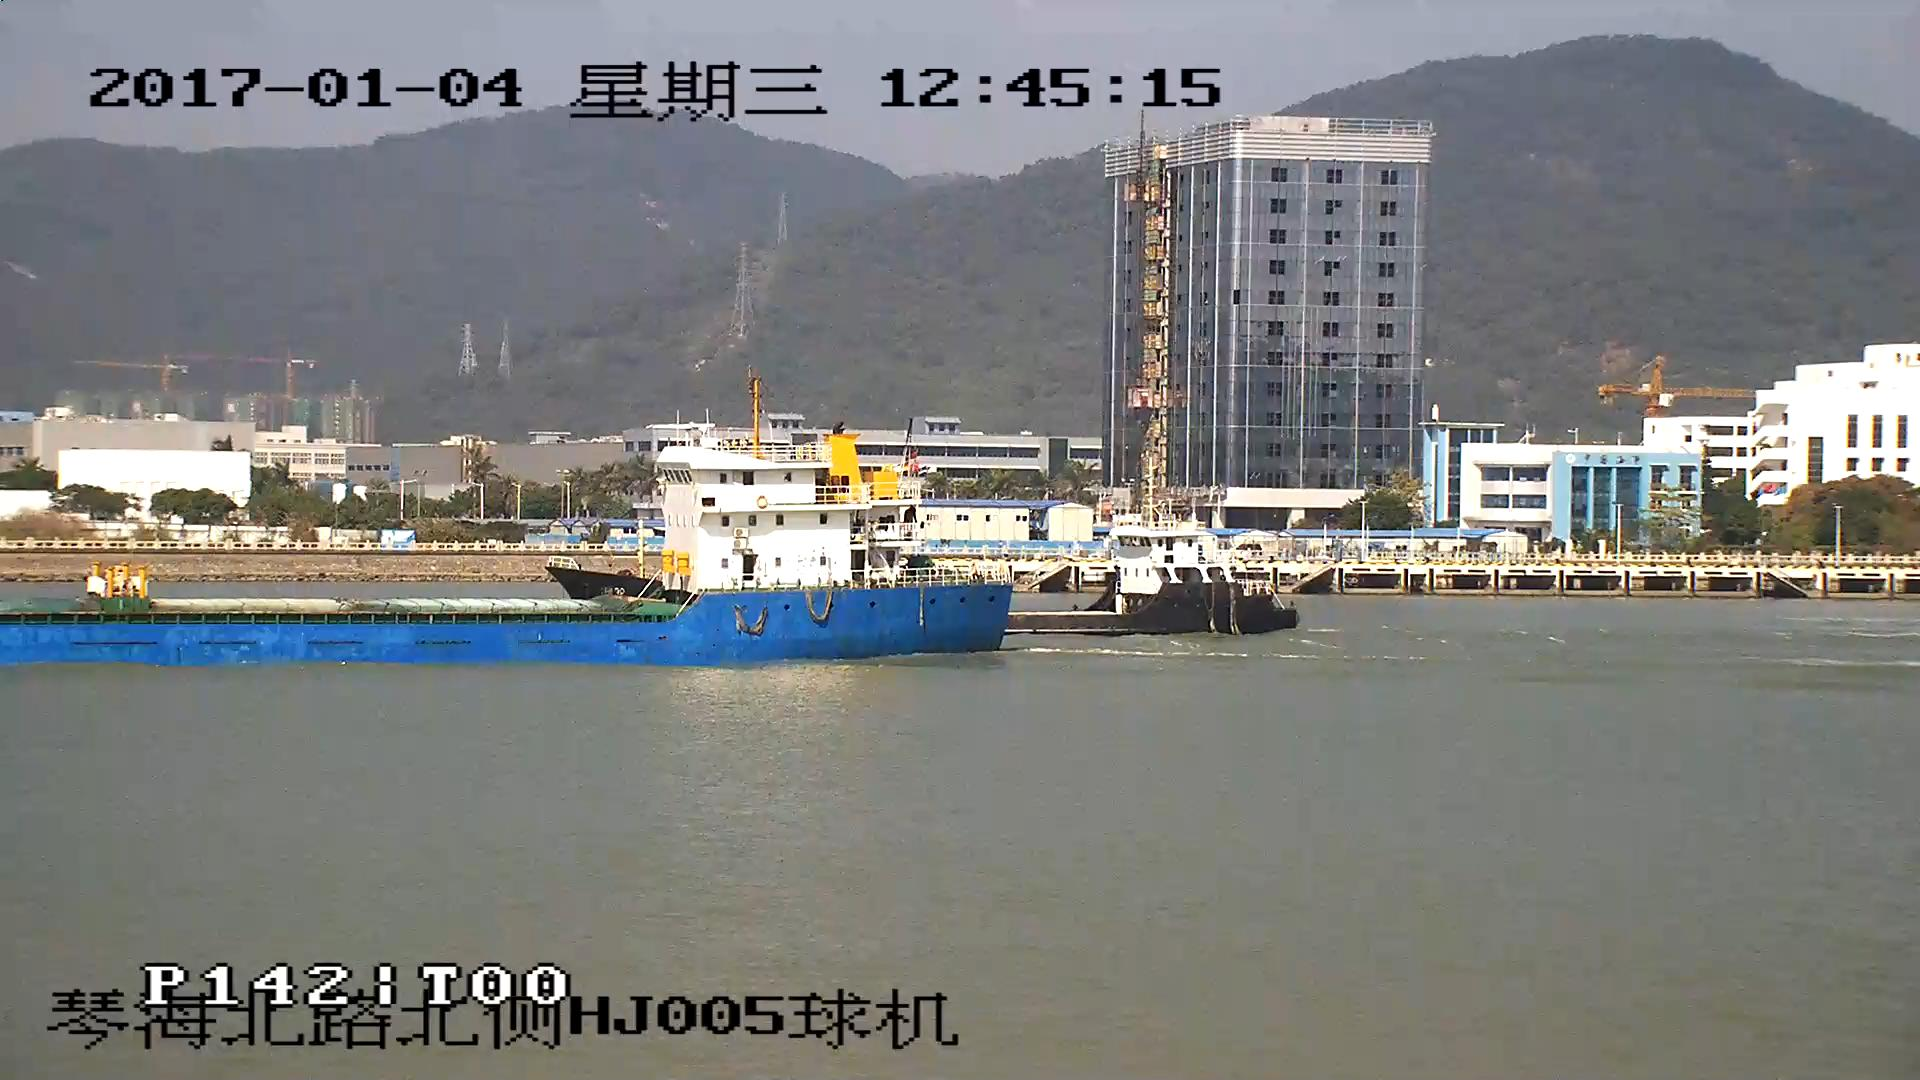general cargo ship: (1, 441, 1017, 670), (1015, 513, 1299, 637)
